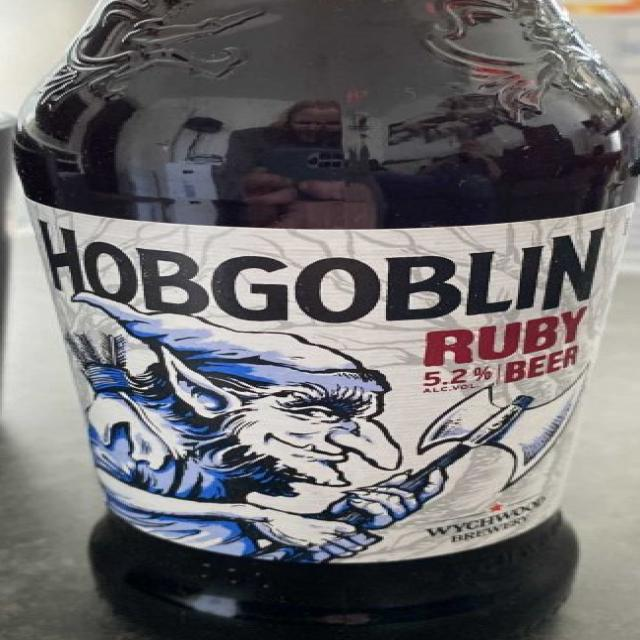Hobgoblin Ruby: (2, 1, 640, 640)
